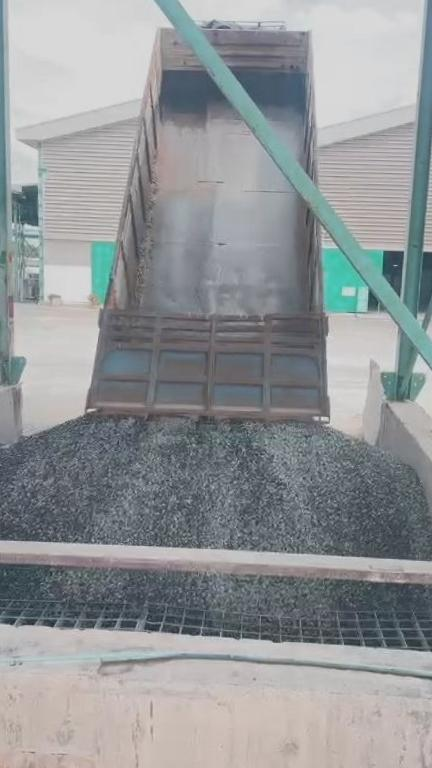gravel: (0, 419, 432, 558), (0, 570, 432, 614)
